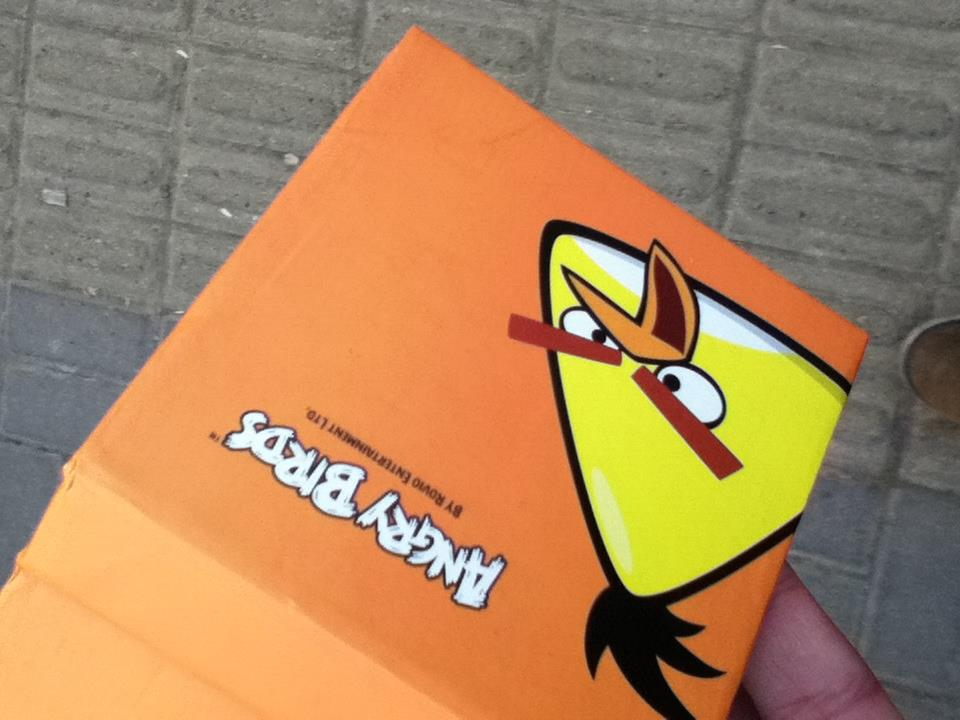crazybird_notes: (13, 25, 861, 712)
